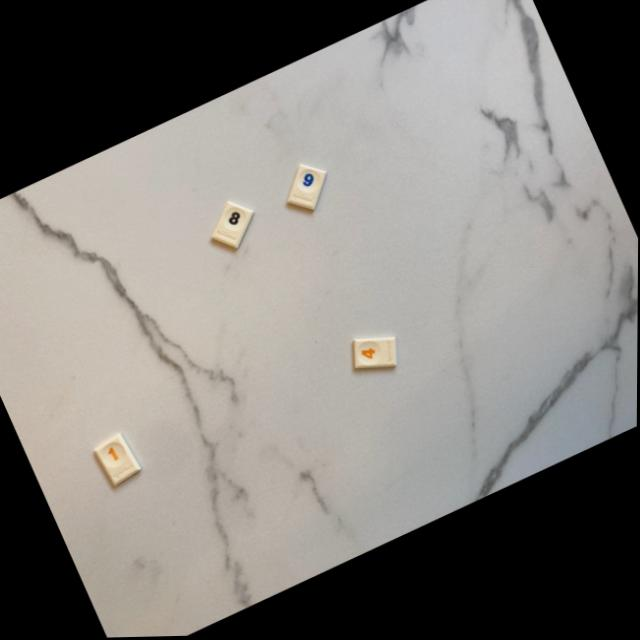black_8: (214, 202, 253, 249)
blue_9: (289, 166, 326, 211)
orange_1: (95, 434, 141, 486)
orange_4: (354, 338, 397, 370)
